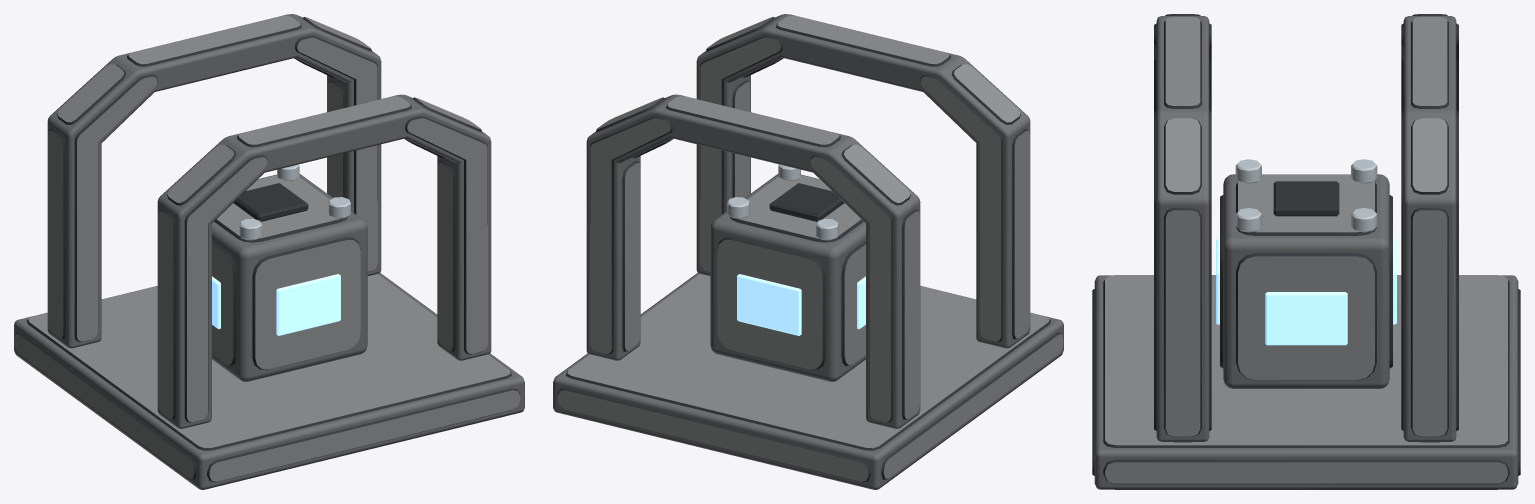
File: R4X_ModuleDurabilityBooster.glb
3 views of the same model, side by side, from view 1: azimuth 30°, elevation 25°; view 2: azimuth 150°, elevation 25°; view 3: azimuth 270°, elevation 25° (orthographic). The views are drawn at different scales.
Parts seen in each view (by area): view 1: R4X_ModuleDurabilityBooster_Body; view 2: R4X_ModuleDurabilityBooster_Body; view 3: R4X_ModuleDurabilityBooster_Body.
Part boxes in pixels (x1,y1,x2,y2): R4X_ModuleDurabilityBooster_Body: (14,14,524,489); R4X_ModuleDurabilityBooster_Body: (553,14,1063,489); R4X_ModuleDurabilityBooster_Body: (1092,14,1520,489).
Size of the model in its own units: 0.52 by 0.46 by 0.52.
